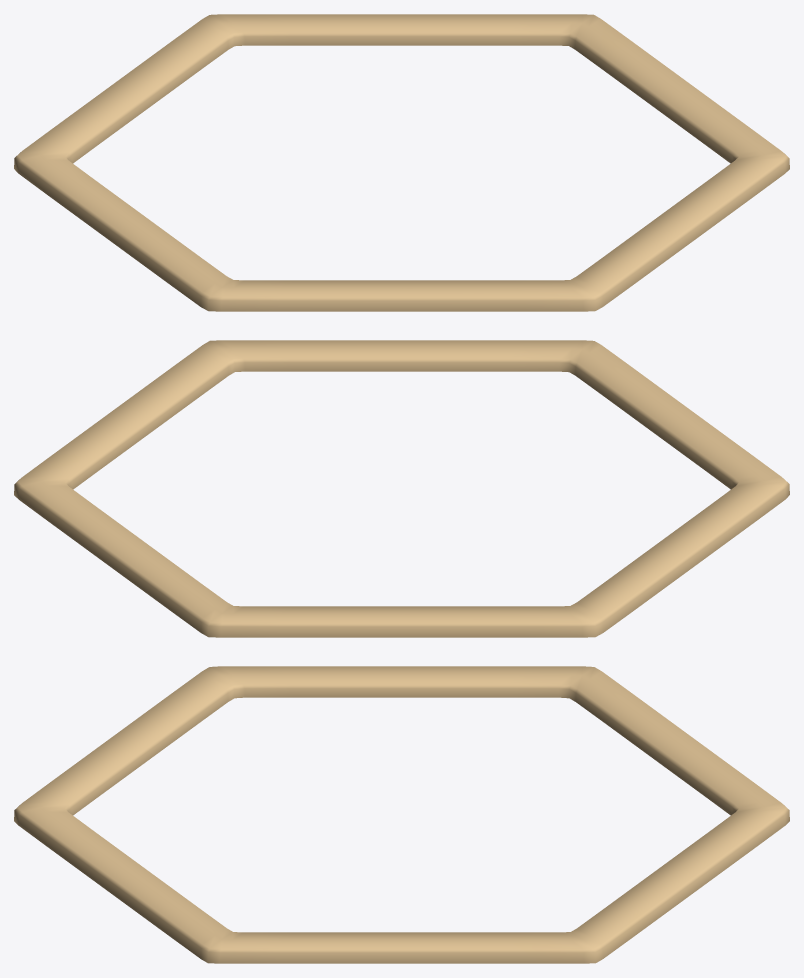
Rendered from hexagon cover.glb.
3 views of the same model, one above another, from view 1: azimuth 30°, elevation 25°; view 2: azimuth 150°, elevation 25°; view 3: azimuth 270°, elevation 25° (orthographic).
Visible parts, largest first — view 1: Circle.001; view 2: Circle.001; view 3: Circle.001.
Boxes of the visible parts, box(x1,y1,x2,y2) form: Circle.001: box(14, 14, 789, 311); Circle.001: box(14, 340, 789, 637); Circle.001: box(14, 666, 789, 963).
Bounding box in the file's own units: 0.9055 × 0.0204 × 1.04.
1 material, 1 textured.
